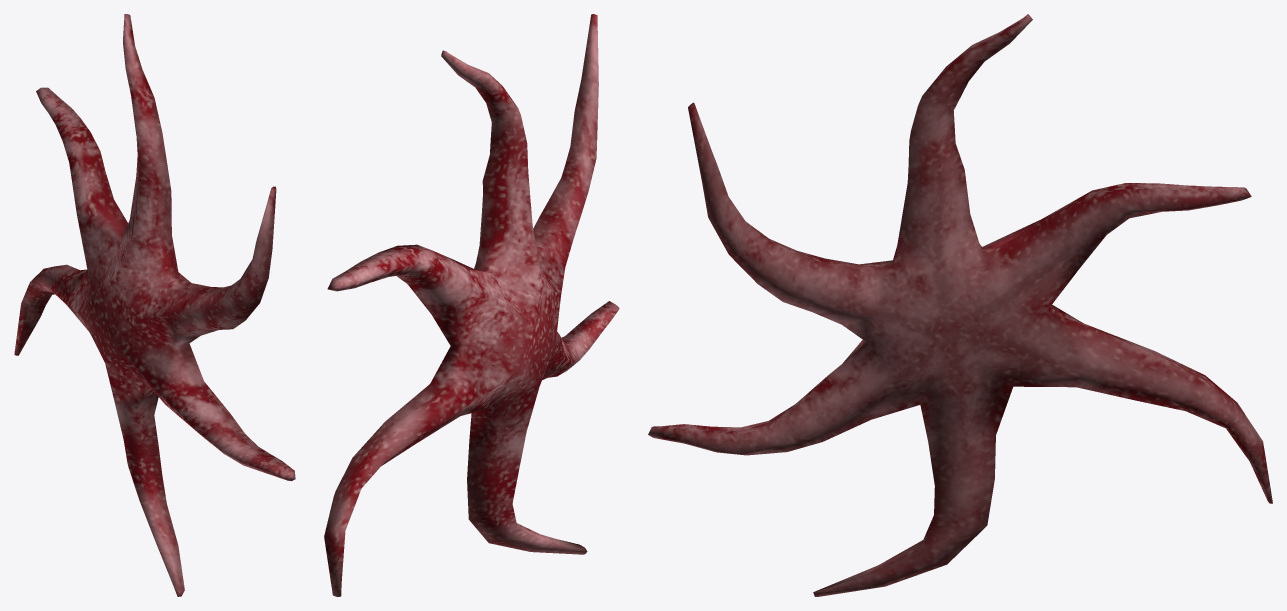
The model's file is Starfish_2.fbx.
3 views of the same model, side by side, from view 1: azimuth 30°, elevation 25°; view 2: azimuth 150°, elevation 25°; view 3: azimuth 270°, elevation 25° (orthographic). The views are drawn at different scales.
Visible parts, largest first — view 1: Starfish_low003; view 2: Starfish_low003; view 3: Starfish_low003.
Boxes of the visible parts, x1,y1,x2,y2 form: Starfish_low003: (14,14,295,596); Starfish_low003: (324,14,619,596); Starfish_low003: (648,14,1272,596).
Bounding box in the file's own units: 4.33 × 28.66 × 26.91.
